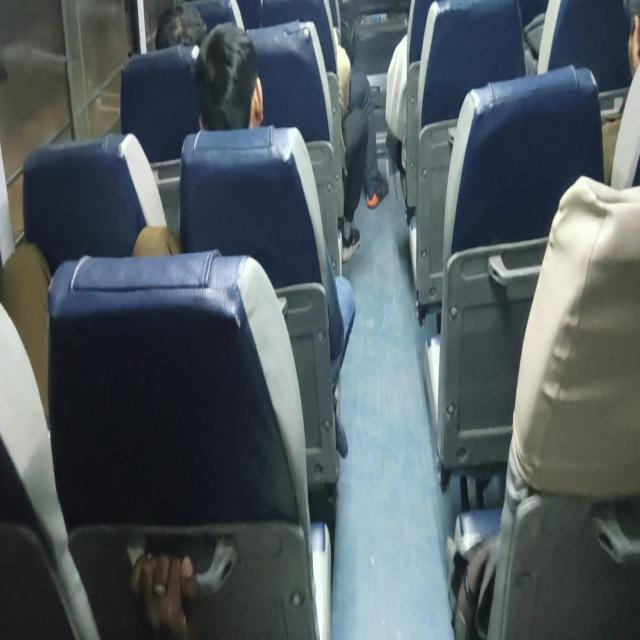person: (202, 32, 266, 133), (603, 0, 639, 75), (146, 11, 206, 55)
